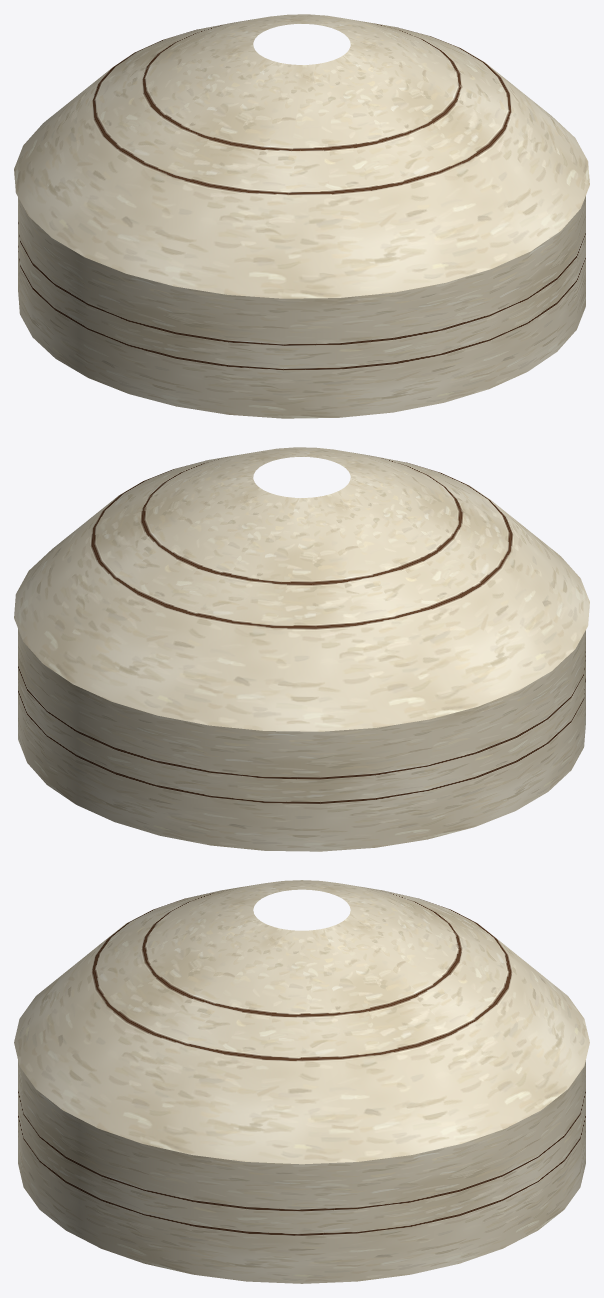
File: smoke_yurt.glb
The picture shows the model from 3 angles, top to bottom: view 1: azimuth 30°, elevation 25°; view 2: azimuth 150°, elevation 25°; view 3: azimuth 270°, elevation 25°; orthographic projection.
Visible parts, largest first — view 1: smoke_yurt; view 2: smoke_yurt; view 3: smoke_yurt.
Boxes of the visible parts, x1,y1,x2,y2 form: smoke_yurt: (14, 14, 589, 418); smoke_yurt: (14, 447, 589, 851); smoke_yurt: (14, 880, 589, 1283).
Size of the model in its own units: 7.1 by 3.45 by 7.1.
1 material, 1 textured.
